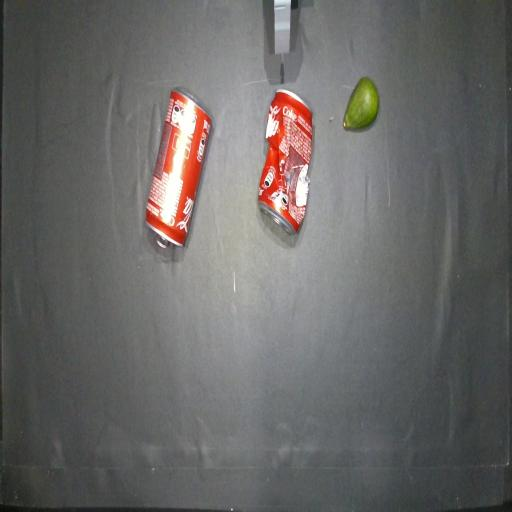higo: (343, 77, 379, 129)
lata: (146, 88, 212, 247)
lata_defectuoso: (258, 90, 313, 234)
